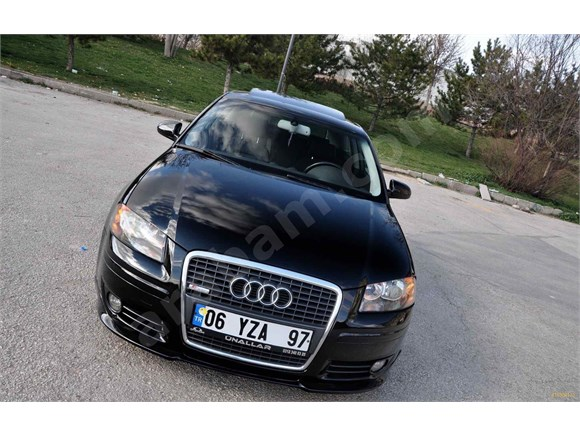audi: (223, 273, 297, 312)
